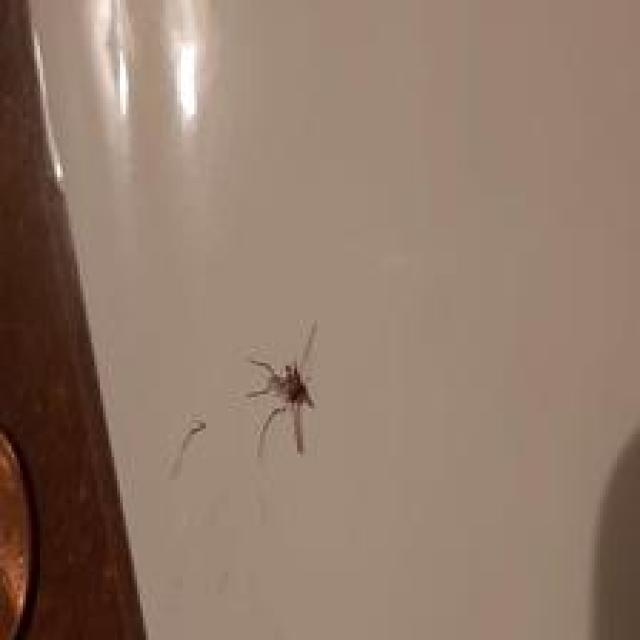Culex: (244, 320, 319, 457)
